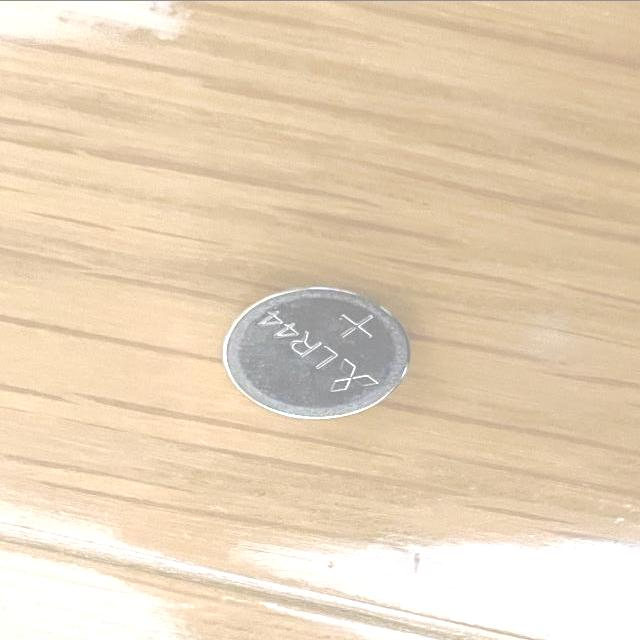COIN: (220, 284, 415, 420)
